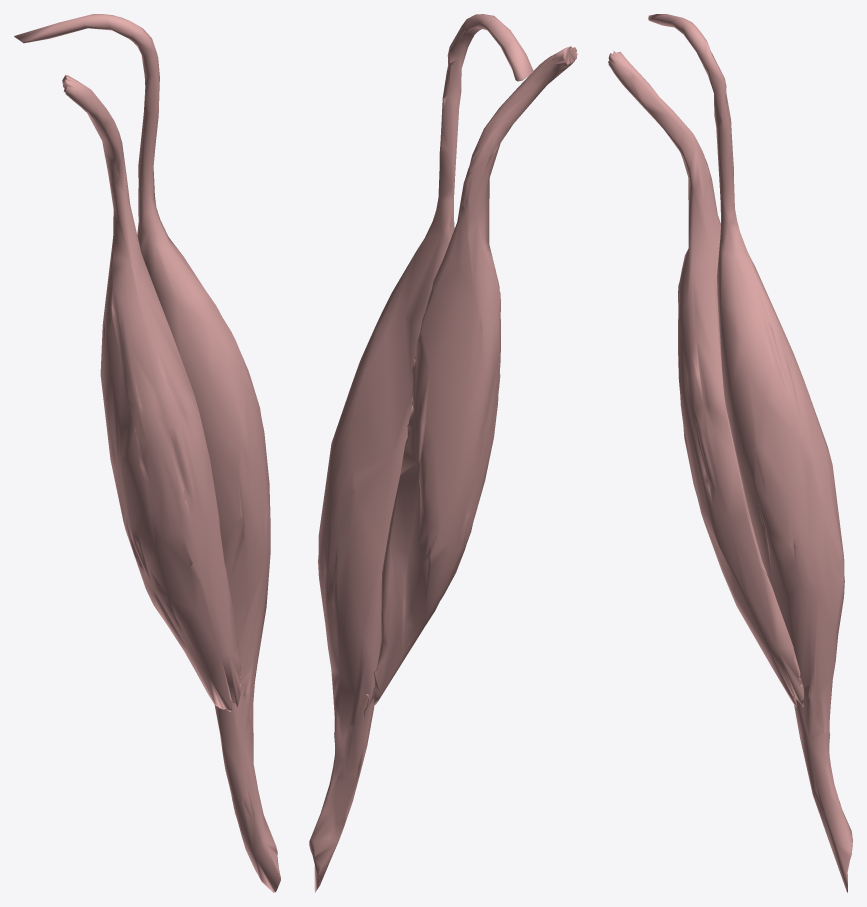
The model's file is muscle.glb.
3 renders of one model, left to right at view 1: azimuth 30°, elevation 25°; view 2: azimuth 150°, elevation 25°; view 3: azimuth 330°, elevation 25°, orthographic. The views are drawn at different scales.
Parts seen in each view (by area): view 1: muscle; view 2: muscle; view 3: muscle.
Boxes of the visible parts, x1,y1,x2,y2 form: muscle: [14, 14, 280, 892]; muscle: [309, 14, 577, 892]; muscle: [608, 14, 852, 892].
Bounding box in the file's own units: 0.055 × 0.2008 × 0.0241.
